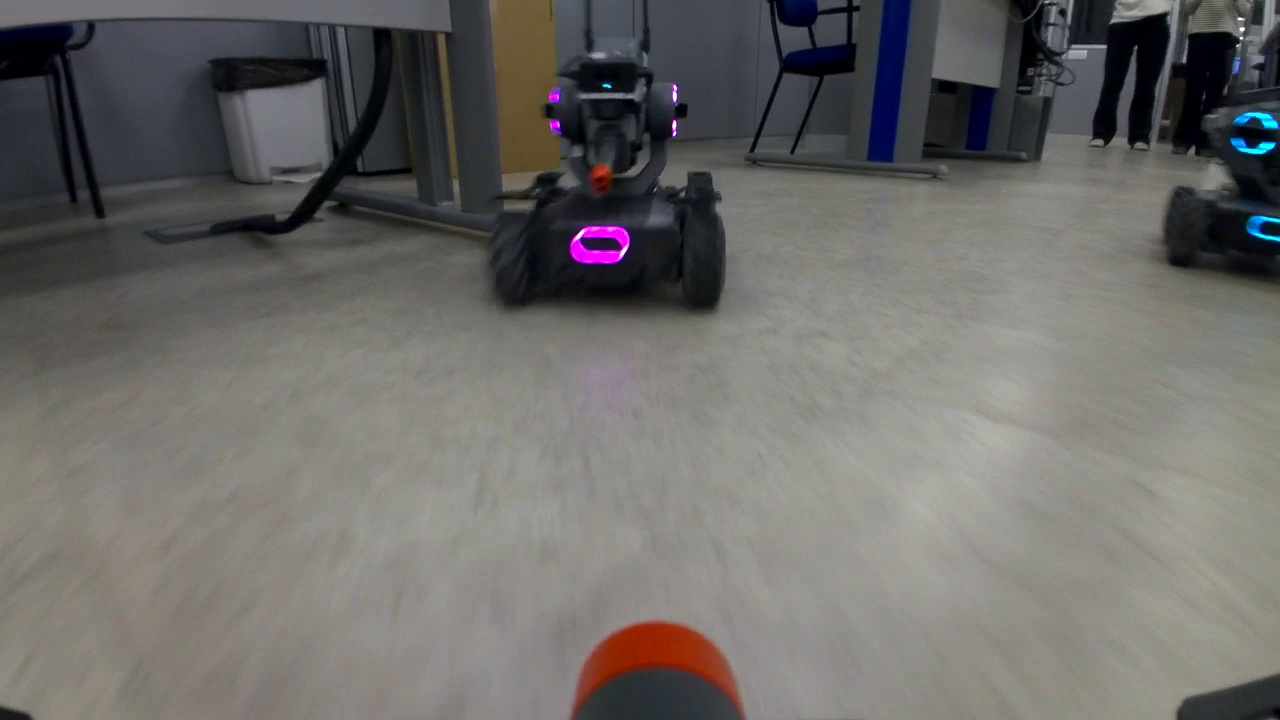robot: (489, 52, 727, 318), (1165, 84, 1280, 289)
